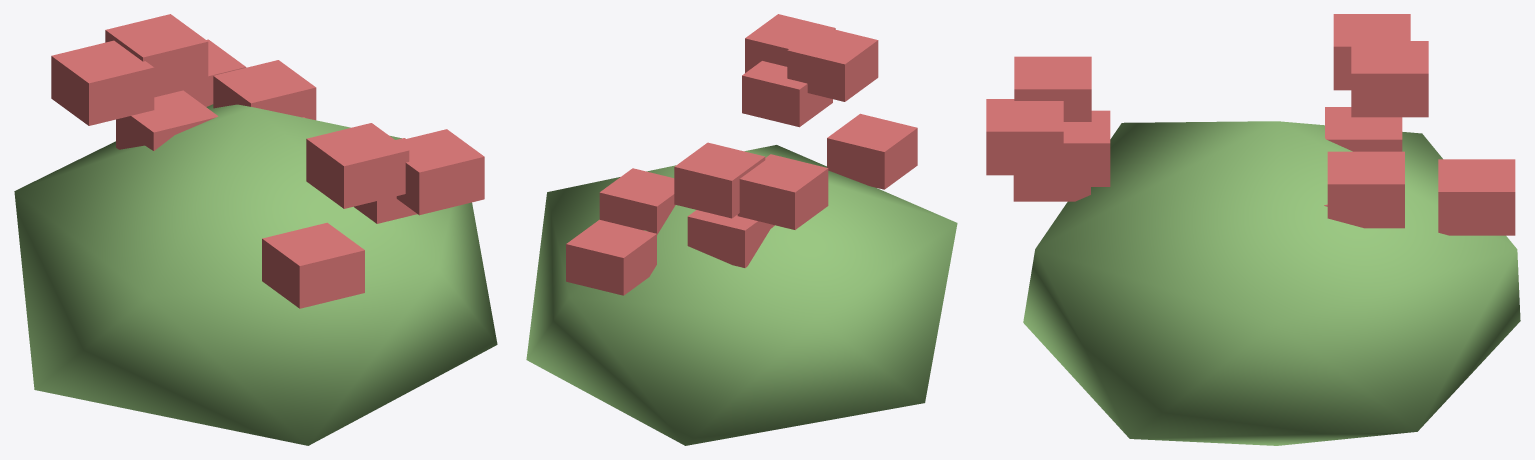
Rendered from flowers.glb.
The picture shows the model from 3 angles, left to right: view 1: azimuth 30°, elevation 25°; view 2: azimuth 150°, elevation 25°; view 3: azimuth 270°, elevation 25°; orthographic projection. The views are drawn at different scales.
Parts seen in each view (by area): view 1: flowers; view 2: flowers; view 3: flowers.
Part boxes in pixels (x1=…): flowers: x1=14, y1=14, x2=497, y2=445; flowers: x1=526, y1=14, x2=957, y2=445; flowers: x1=986, y1=14, x2=1520, y2=445.
Bounding box in the file's own units: 0.525 × 0.4232 × 0.5533.
